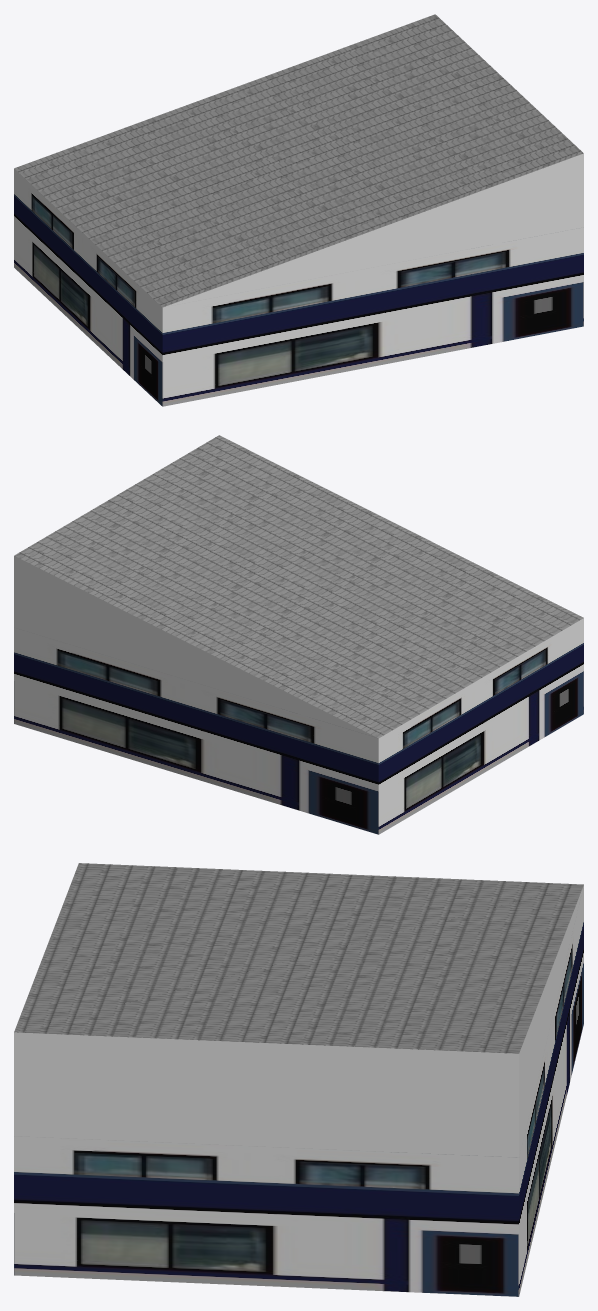
3 views of the same model, one above another, from view 1: azimuth 30°, elevation 25°; view 2: azimuth 150°, elevation 25°; view 3: azimuth 270°, elevation 25° (orthographic). The views are drawn at different scales.
Visible parts, largest first — view 1: CityEngineMaterial_4_m, CityEngineMaterial_2_m, CityEngineMaterial_3_m; view 2: CityEngineMaterial_4_m, CityEngineMaterial_2_m, CityEngineMaterial_3_m; view 3: CityEngineMaterial_4_m, CityEngineMaterial_2_m, CityEngineMaterial_3_m.
Part boxes in pixels (x1,y1,x2,y2): CityEngineMaterial_4_m: (14, 14, 583, 307); CityEngineMaterial_2_m: (14, 169, 583, 406); CityEngineMaterial_3_m: (164, 153, 583, 307); CityEngineMaterial_4_m: (14, 435, 583, 738); CityEngineMaterial_2_m: (14, 618, 583, 834); CityEngineMaterial_3_m: (14, 556, 377, 737); CityEngineMaterial_4_m: (14, 863, 583, 1053); CityEngineMaterial_2_m: (14, 885, 583, 1296); CityEngineMaterial_3_m: (14, 885, 583, 1157).
Size of the model in its own units: 31.63 by 12.18 by 25.87.
